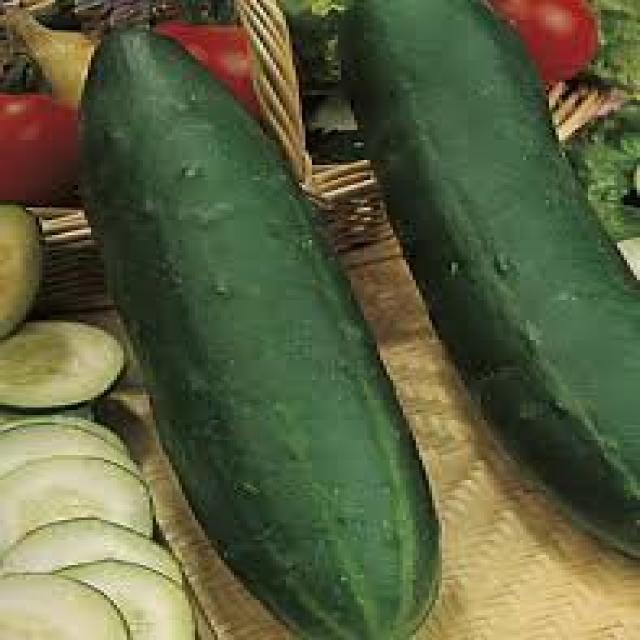cucumber: (78, 31, 441, 640), (334, 0, 640, 561)
